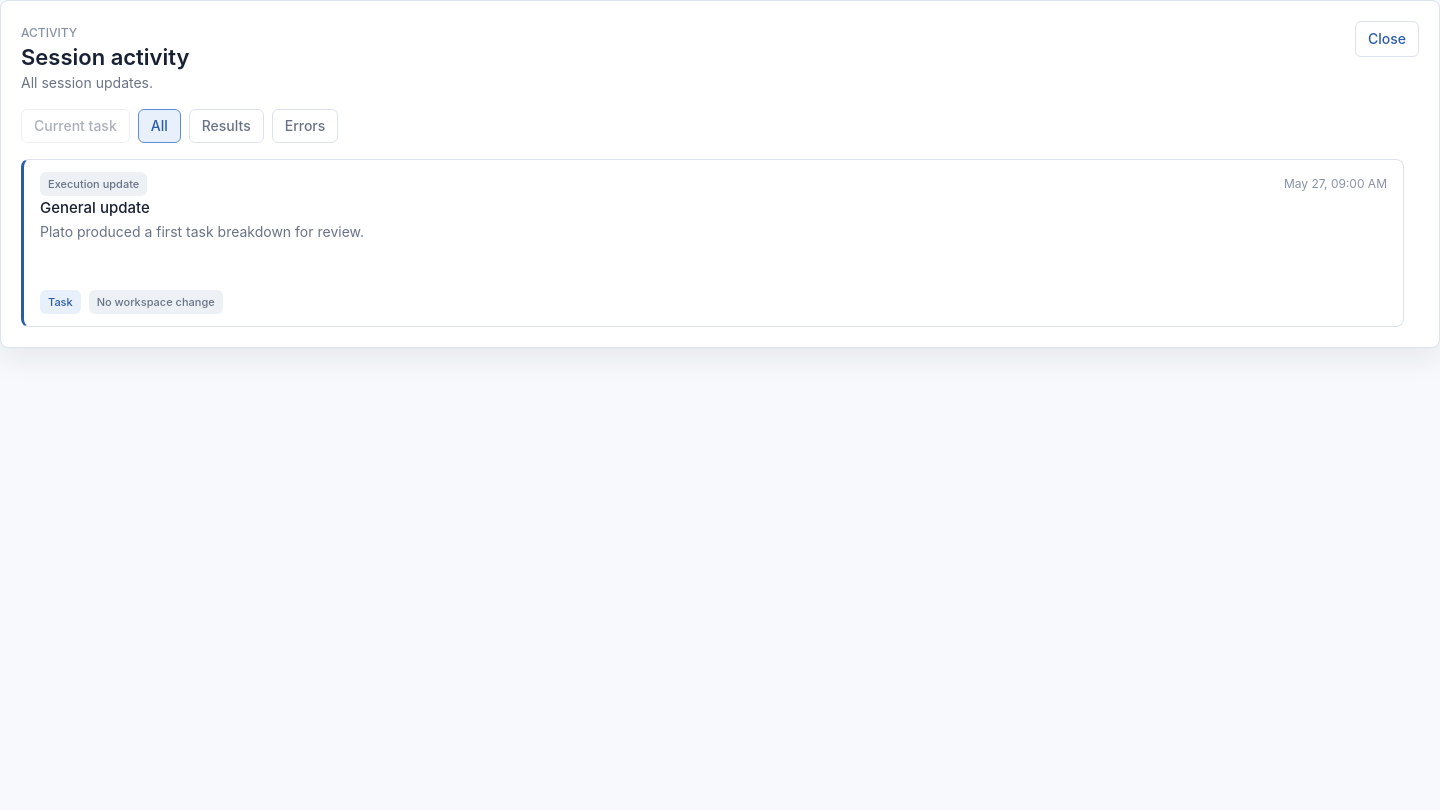
Test: ActivityOverlay › uses session activity copy when there is no selected task
Expected: the heading "Session activity" is shown, [21,44,190,72]
Expected: the text "All session updates." is shown, [21,74,153,90]
Step 1. Click the button "Errors" → (305, 126), box [272,108,338,143]
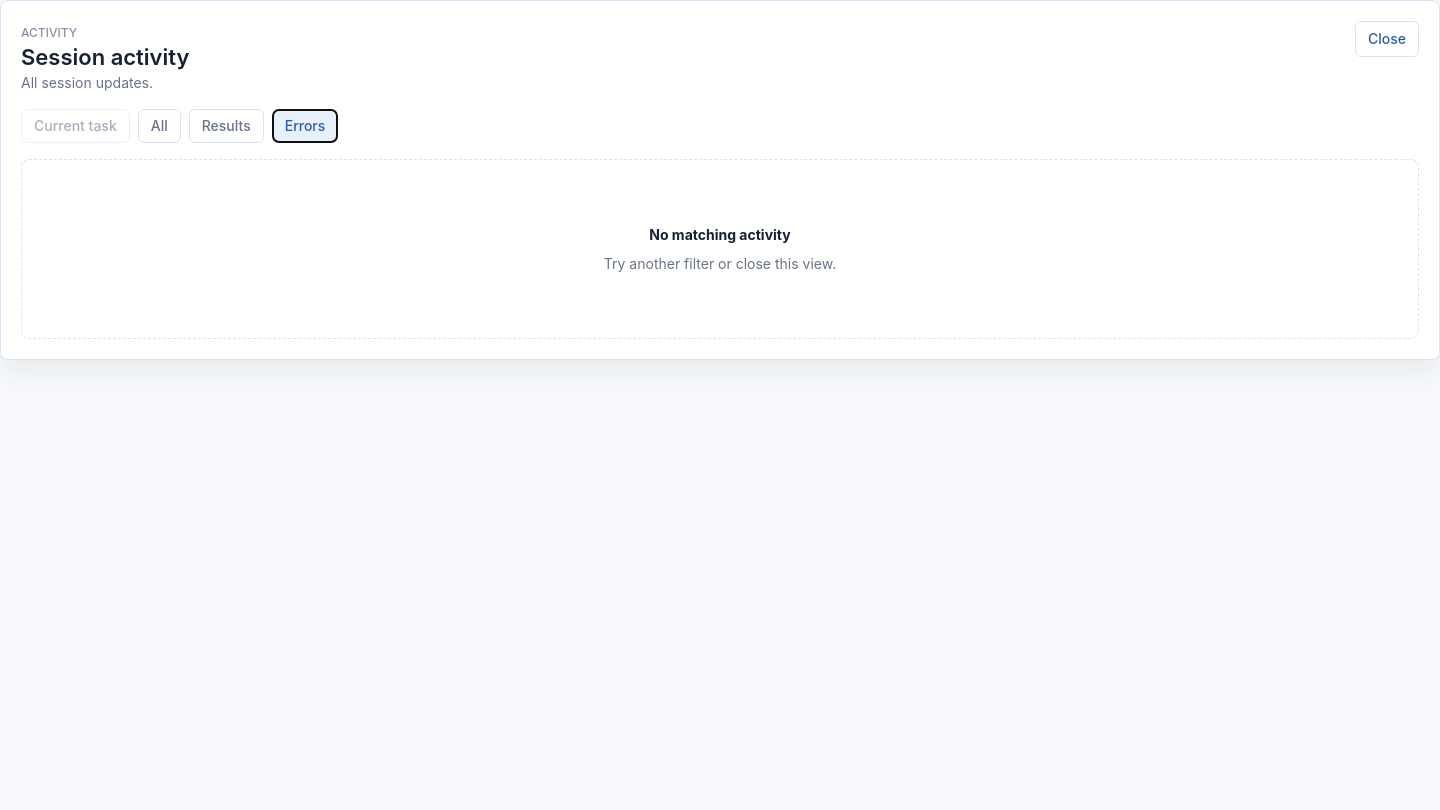
Expected: the text "No matching activity" is shown, [649,224,791,245]
Expected: the text "Try another filter or close this view." is shown, [604,253,836,274]
